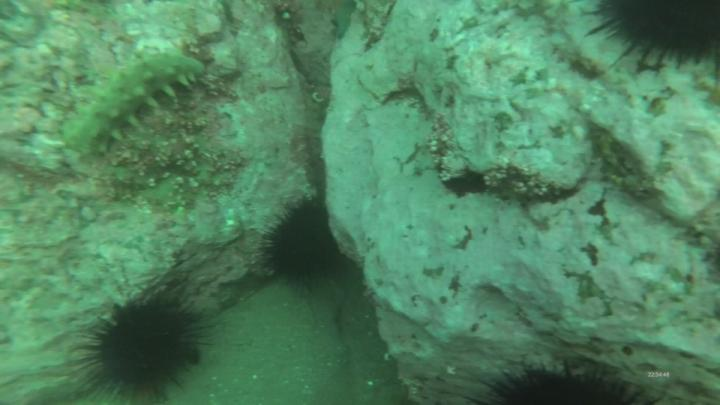echinus: (95, 306, 194, 394), (599, 2, 720, 58), (268, 207, 334, 286)
holothurian: (66, 57, 204, 156)
